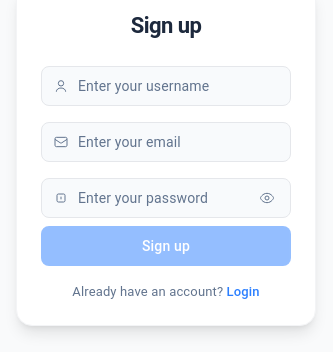
Test: Register page › should enable button when all fields are filled
Check: the button "Sign up" is disabled, box [41,226,291,266]
Type "Testeur" into the field with placeholder "Enter your username".
click(166, 86); type("Testeur")  # box [41,66,291,106]
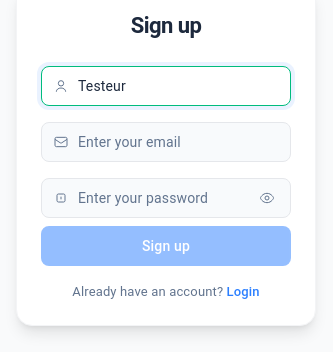
Type "test@eventhub.com" into the field with placeholder "Enter your email".
click(166, 142); type("test@eventhub.com")  # box [41,122,291,162]
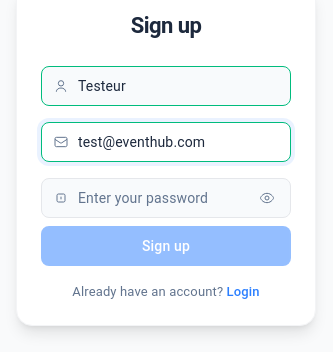
Type "Testeur123@" into the password field with placeholder "Enter your password".
click(166, 198); type("Testeur123@")  # box [41,178,291,218]
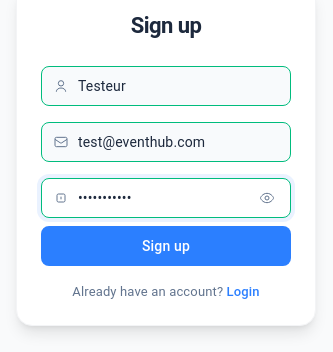
Check: the button "Sign up" is enabled, box [41,226,291,266]
